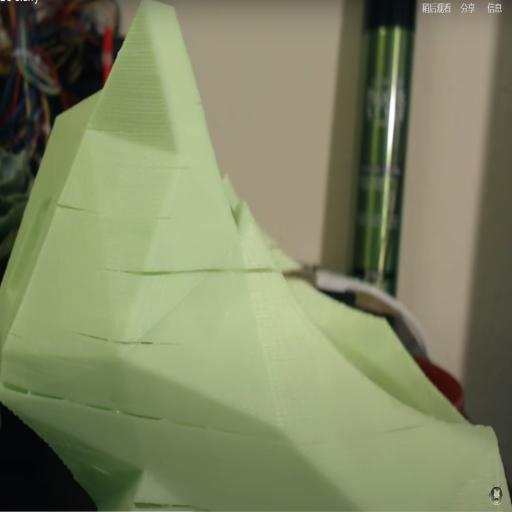cracks: (6, 377, 226, 451), (124, 259, 291, 299), (128, 492, 203, 512), (52, 194, 90, 224)
